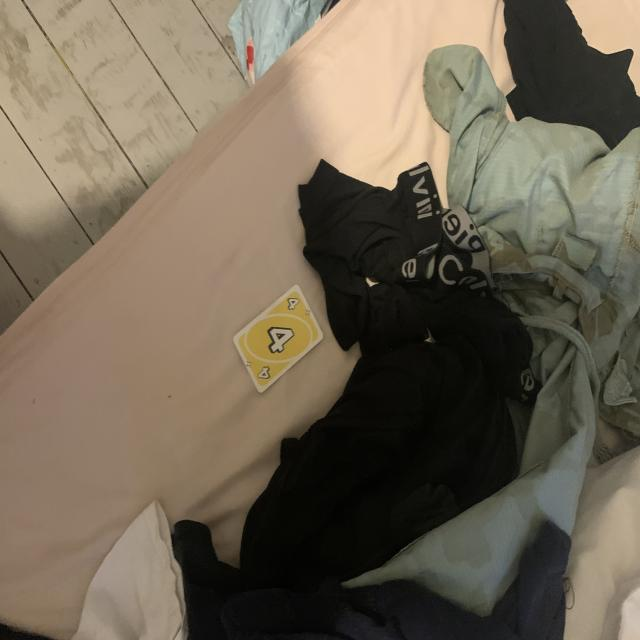lyellow-4: (286, 291, 300, 313)
